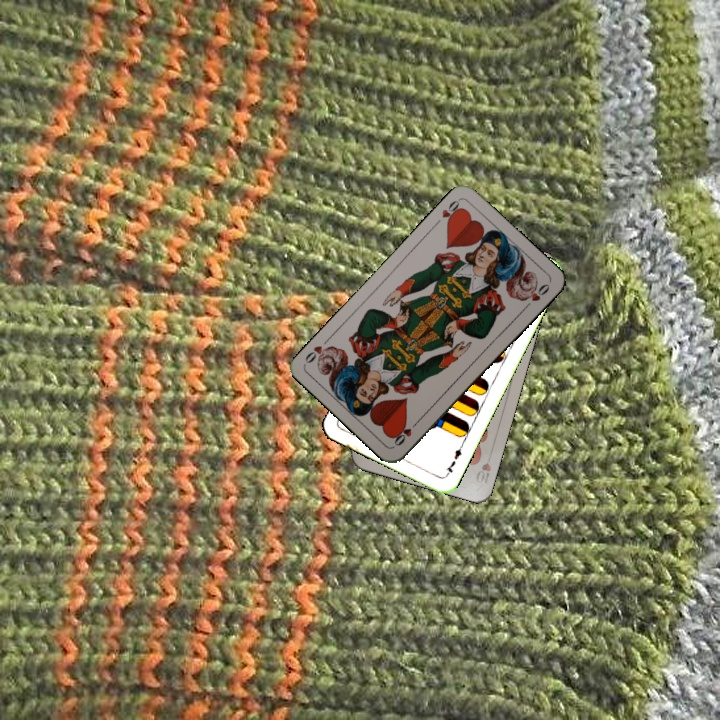E7: (442, 441, 465, 479)
H10: (471, 448, 495, 486)
HO: (430, 195, 465, 228), (390, 416, 422, 449)
